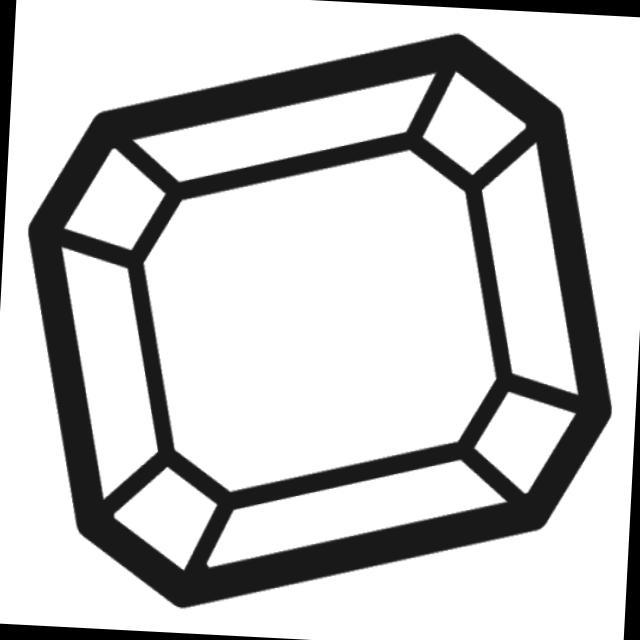emerald: (1, 7, 635, 640)
